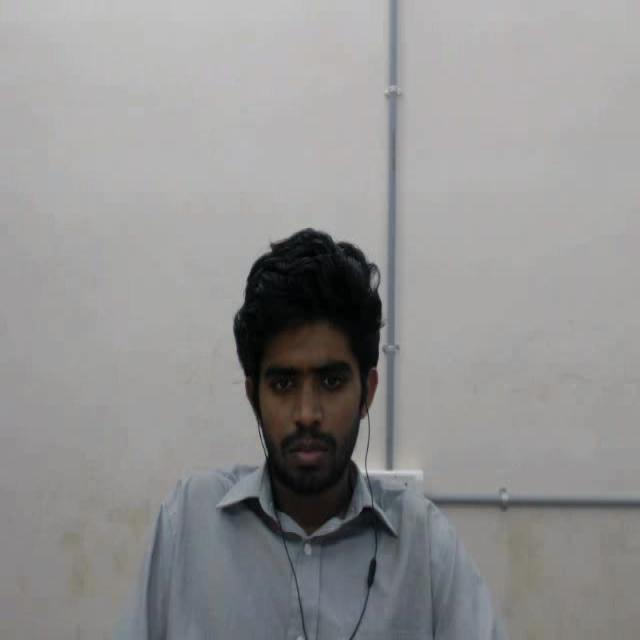Engaged: (213, 199, 397, 524)
